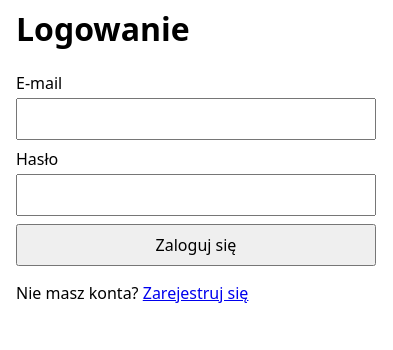
Test: LoginView › shows the validation error under the field
This screenshot has width=393, height=350.
Step 1. Type "jan@example.com" into the field labelled "E-mail" → x=196, y=119, box [16, 98, 376, 140]
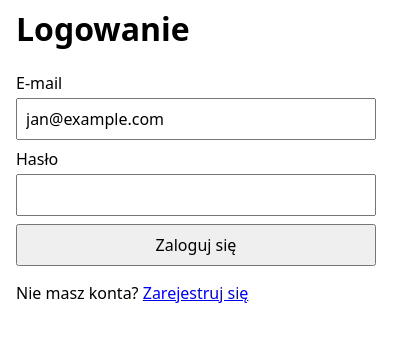
Step 2. Type "sekret123" into the password field labelled "Hasło" → x=196, y=195, box [16, 174, 376, 216]
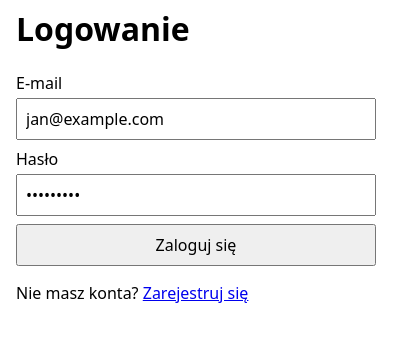
Step 3. Submit the form, box [16, 72, 376, 266]
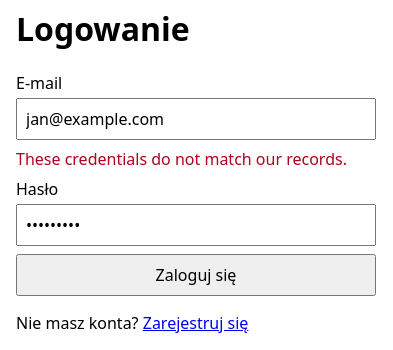
Check: the text with class "field-error" reads "These credentials do not match our records.", box [16, 148, 347, 170]
